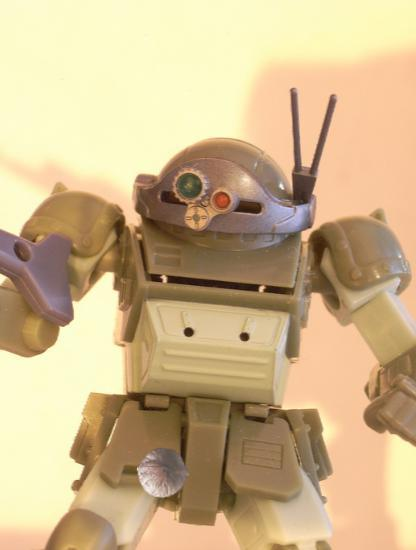Walnut: (137, 447, 189, 499)
